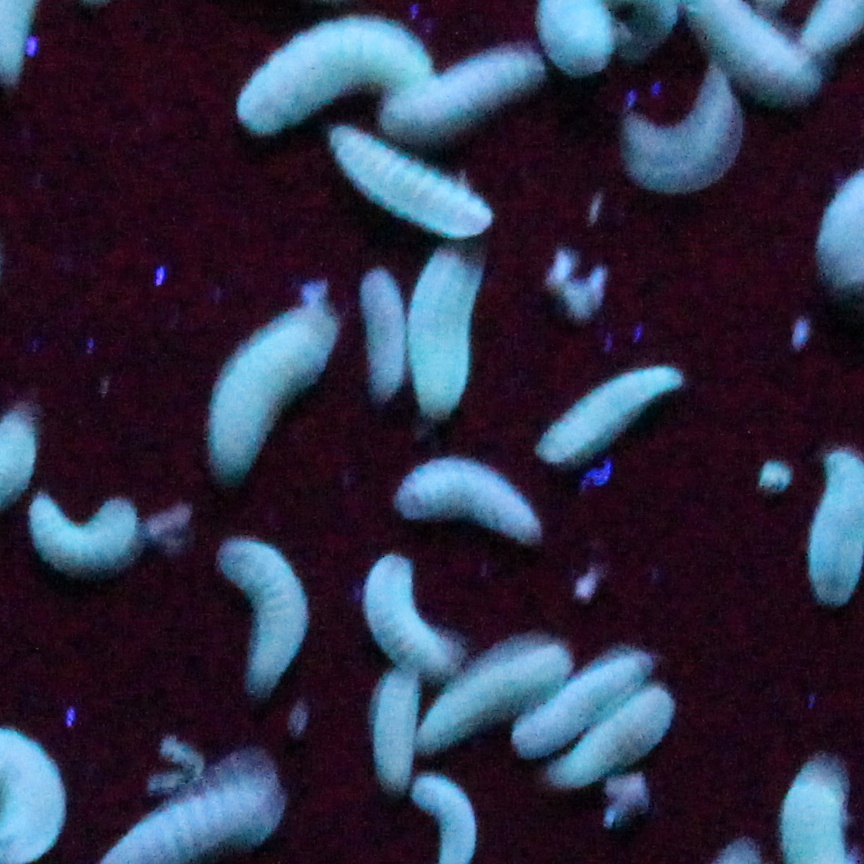larve: (231, 20, 433, 122), (217, 308, 335, 478), (331, 130, 496, 237), (419, 635, 573, 749), (535, 364, 685, 462), (221, 537, 310, 695), (373, 51, 550, 130), (521, 647, 652, 751), (629, 68, 740, 185), (550, 687, 679, 787), (365, 553, 465, 680), (412, 245, 483, 422), (396, 460, 542, 543), (33, 495, 140, 570), (356, 264, 410, 401), (369, 670, 421, 789)
